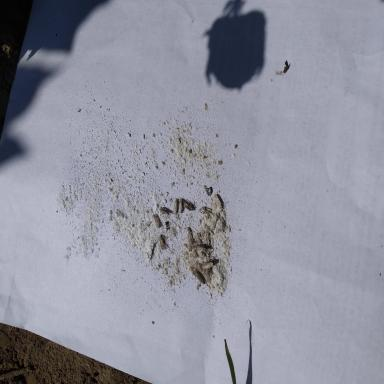pbw: (183, 198, 197, 211), (214, 194, 224, 211), (193, 270, 205, 284), (159, 233, 166, 250), (195, 244, 208, 253), (152, 214, 160, 228), (173, 196, 179, 214), (202, 262, 214, 269), (199, 206, 211, 213), (149, 243, 154, 259), (160, 208, 170, 216), (213, 214, 219, 226), (179, 197, 183, 213), (187, 227, 192, 238), (207, 232, 210, 244)
